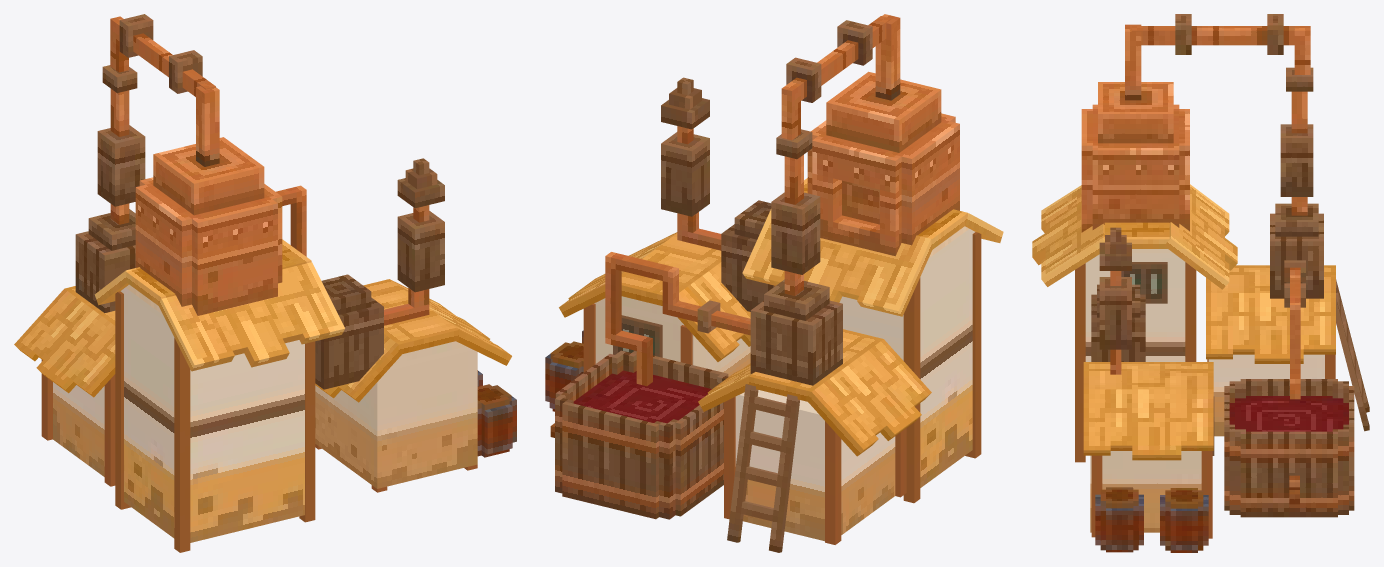
Rendered from bldg_distillery.glb.
3 renders of one model, left to right at view 1: azimuth 30°, elevation 25°; view 2: azimuth 150°, elevation 25°; view 3: azimuth 270°, elevation 25°, orthographic. The views are drawn at different scales.
Parts seen in each view (by area): view 1: Wall03-Local, Top$$Barrel-Local, Room02-Local, Thatch03c-Local, Beam01-Local, Thatch03b$$(1)-Local, RoofPipe-Local, TopBarrel$$03-Local, Pipe02-Local, TopBarrel$$02-Local, Pipe$$Group 01-Local, Room-Local (+7 smaller); view 2: AlcoholBarrel-Local, Top$$Barrel-Local, Wall03-Local, Room-Local, Thatch03b$$(1)-Local, TopBarrel$$02-Local, Thatch03b-Local, RoofPipe-Local, Ladder-Local, Pipe02-Local, Beam$$a01-Local, Roof$$02-Local (+13 smaller); view 3: AlcoholBarrel-Local, Top$$Barrel-Local, Thatch03c$$(2)-Local, Thatch03c$$(1)-Local, Roof$$02-Local, Wall03-Local, Pipe$$Group 01-Local, Room02-Local, Thatch03c-Local, TopBarrel$$02-Local, Thatch03b-Local, RoofPipe-Local (+12 smaller).
Boxes of the visible parts, x1,y1,x2,y2 form: Wall03-Local: (120,284,304,542); Top$$Barrel-Local: (135,86,282,315); Room02-Local: (315,341,477,488); Thatch03c-Local: (158,262,344,371); Beam01-Local: (115,291,315,552); Thatch03b$$(1)-Local: (14,288,115,397); RoofPipe-Local: (384,158,444,325); TopBarrel$$03-Local: (315,274,383,389); Pipe02-Local: (97,65,145,224); TopBarrel$$02-Local: (75,209,135,312); Pipe$$Group 01-Local: (110,14,215,96); Room-Local: (53,382,104,476); AlcoholBarrel-Local: (550,350,728,519); Top$$Barrel-Local: (807,14,959,256); Wall03-Local: (839,226,974,487); Room-Local: (735,390,895,541); Thatch03b$$(1)-Local: (806,339,931,456); TopBarrel$$02-Local: (750,279,842,385); Thatch03b-Local: (742,209,932,316); RoofPipe-Local: (661,77,721,250); Ladder-Local: (727,384,799,552); Pipe02-Local: (771,129,820,295); Beam$$a01-Local: (583,303,906,544); Roof$$02-Local: (621,233,883,402); AlcoholBarrel-Local: (1224,379,1354,517); Top$$Barrel-Local: (1081,24,1189,232); Thatch03c$$(2)-Local: (1083,389,1213,460); Thatch03c$$(1)-Local: (1206,293,1335,363); Roof$$02-Local: (1083,265,1335,389); Wall03-Local: (1085,249,1185,361); Pipe$$Group 01-Local: (1132,14,1310,74); Room02-Local: (1090,451,1201,532); Thatch03c-Local: (1032,185,1104,286); TopBarrel$$02-Local: (1270,203,1323,298); Thatch03b-Local: (1164,184,1237,289); RoofPipe-Local: (1099,227,1131,374).
Bounding box in the file's own units: 76.62 × 83.54 × 62.25.
Materials: 26 (26 with a texture image).
